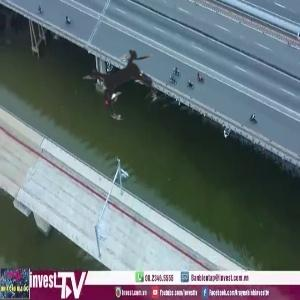drone: (60, 13, 192, 145)
